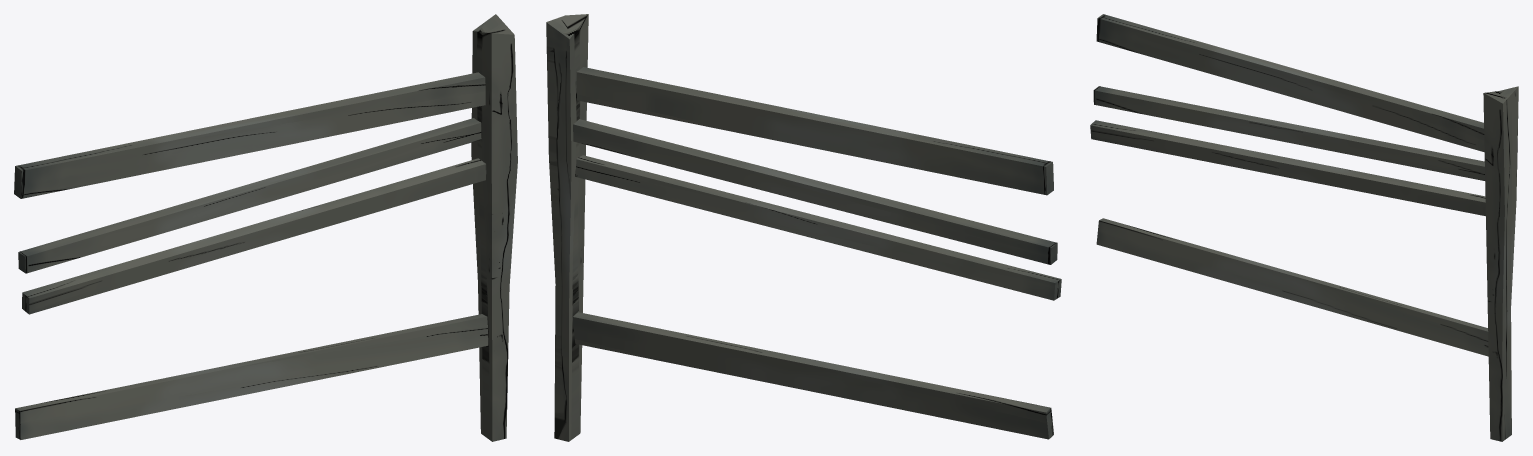
File: Fence2.fbx
3 renders of one model, left to right at view 1: azimuth 30°, elevation 25°; view 2: azimuth 150°, elevation 25°; view 3: azimuth 330°, elevation 25°, orthographic. The views are drawn at different scales.
Visible parts, largest first — view 1: fence_proper, fence_proper3, fence_beam, fence_proper1, fence_proper2; view 2: fence_proper, fence_proper3, fence_beam, fence_proper2, fence_proper1; view 3: fence_proper, fence_proper3, fence_beam, fence_proper1, fence_proper2.
Boxes of the visible parts, x1,y1,x2,y2 form: fence_proper: (14,72,485,198); fence_proper3: (15,314,488,439); fence_beam: (471,14,517,441); fence_proper1: (22,158,486,314); fence_proper2: (18,118,481,273); fence_proper: (576,67,1053,195); fence_proper3: (573,312,1053,439); fence_beam: (546,14,588,441); fence_proper2: (573,119,1057,264); fence_proper1: (575,155,1061,300); fence_proper: (1096,14,1484,152); fence_proper3: (1096,218,1488,356); fence_beam: (1483,86,1518,441); fence_proper1: (1090,120,1485,216); fence_proper2: (1093,86,1485,180).
Size of the model in its own units: 234 by 188 by 17.45.
